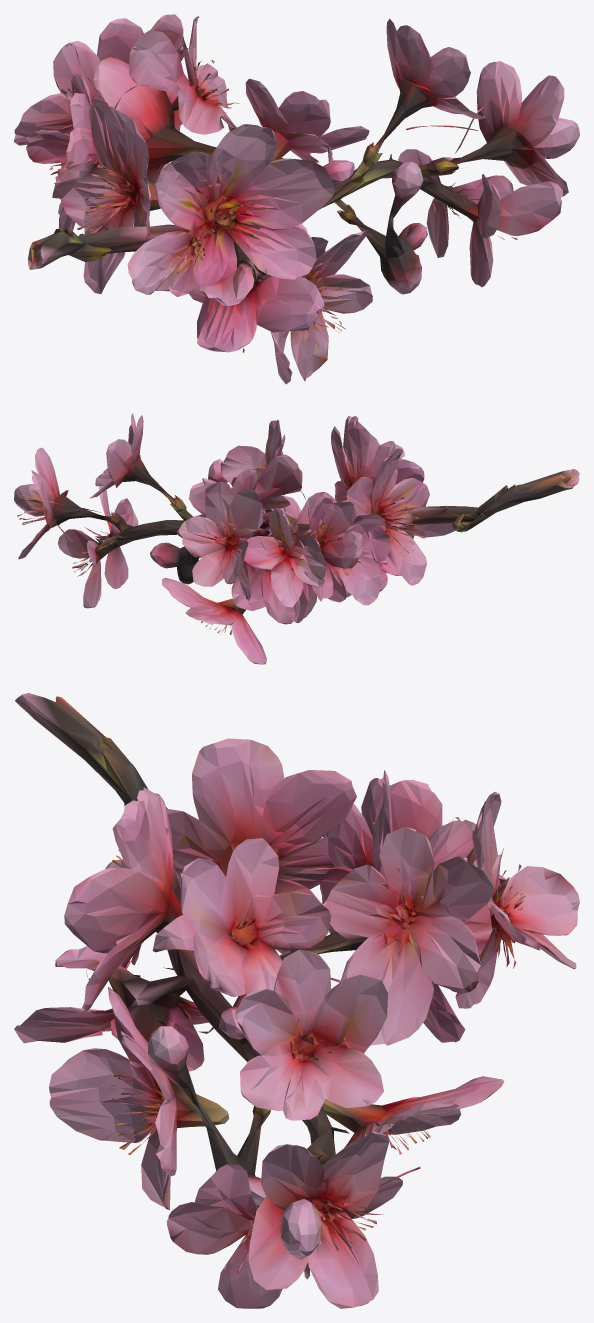
File: branch.glb
3 renders of one model, top to bottom at view 1: azimuth 30°, elevation 25°; view 2: azimuth 150°, elevation 25°; view 3: azimuth 270°, elevation 25°, orthographic. The views are drawn at different scales.
Size of the model in its own units: 1.9 by 0.8443 by 1.1.
